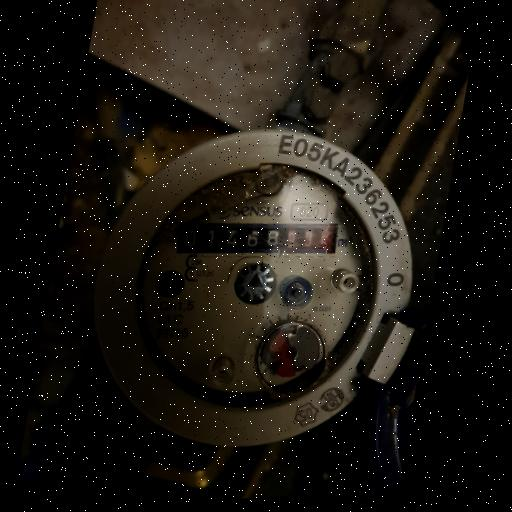0: (180, 225, 201, 251)
1: (202, 224, 225, 251)
3: (300, 227, 318, 252)
4: (222, 225, 242, 251)
5: (314, 222, 337, 255)
6: (242, 226, 264, 252)
8: (263, 225, 283, 250)
9: (283, 227, 301, 252)
border_water_meter_number: (173, 200, 349, 280)
